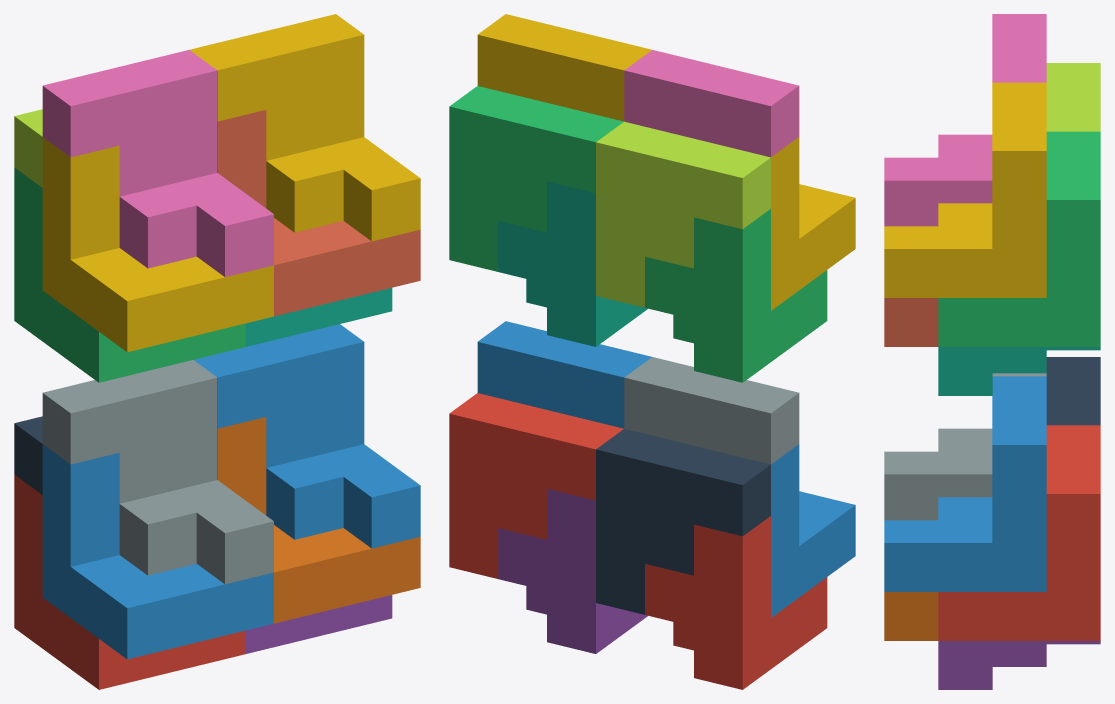
File: tiling.obj
3 views of the same model, side by side, from view 1: azimuth 30°, elevation 25°; view 2: azimuth 150°, elevation 25°; view 3: azimuth 270°, elevation 25° (orthographic). The views are drawn at different scales.
Visible parts, largest first — view 1: copy_2_domain_4, copy_2_domain_2, copy_2_domain_8, copy_2_domain_6, copy_1_domain_2, copy_1_domain_4, copy_1_domain_6, copy_1_domain_8, copy_1_domain_1, copy_1_domain_3, copy_1_domain_7, copy_1_domain_5 (+2 smaller); view 2: copy_2_domain_3, copy_2_domain_1, copy_2_domain_5, copy_2_domain_7, copy_1_domain_1, copy_1_domain_3, copy_2_domain_4, copy_2_domain_2, copy_1_domain_7, copy_1_domain_5, copy_2_domain_8, copy_2_domain_6 (+2 smaller); view 3: copy_2_domain_6, copy_2_domain_8, copy_2_domain_5, copy_2_domain_7, copy_2_domain_4, copy_2_domain_2, copy_1_domain_7, copy_1_domain_5, copy_2_domain_3, copy_2_domain_1, copy_1_domain_6, copy_1_domain_8.
Boxes of the visible parts, box(x1,y1,x2,y2) form: copy_2_domain_4: box(42, 50, 273, 277); copy_2_domain_2: box(42, 360, 273, 584); copy_2_domain_8: box(189, 14, 420, 241); copy_2_domain_6: box(193, 324, 420, 548); copy_1_domain_2: box(42, 444, 273, 659); copy_1_domain_4: box(42, 137, 273, 352); copy_1_domain_6: box(217, 417, 420, 623); copy_1_domain_8: box(217, 110, 420, 316); copy_1_domain_1: box(14, 474, 245, 689); copy_1_domain_3: box(14, 167, 245, 382); copy_1_domain_7: box(245, 288, 392, 346); copy_1_domain_5: box(245, 595, 392, 653); copy_2_domain_3: box(596, 121, 770, 307); copy_2_domain_1: box(596, 429, 770, 614); copy_2_domain_5: box(449, 393, 623, 578); copy_2_domain_7: box(449, 86, 623, 271); copy_1_domain_1: box(645, 516, 827, 689); copy_1_domain_3: box(645, 209, 827, 382); copy_2_domain_4: box(624, 50, 799, 157); copy_2_domain_2: box(624, 357, 799, 464); copy_1_domain_7: box(498, 181, 647, 346); copy_1_domain_5: box(498, 488, 647, 653); copy_2_domain_8: box(477, 14, 651, 121); copy_2_domain_6: box(477, 321, 651, 428); copy_2_domain_6: box(884, 376, 1046, 591); copy_2_domain_8: box(884, 82, 1046, 297); copy_2_domain_5: box(938, 425, 1100, 640); copy_2_domain_7: box(938, 131, 1100, 346); copy_2_domain_4: box(884, 14, 1046, 226); copy_2_domain_2: box(884, 373, 1046, 520); copy_1_domain_7: box(938, 347, 1100, 395); copy_1_domain_5: box(938, 641, 1100, 689); copy_2_domain_3: box(1046, 63, 1100, 131); copy_2_domain_1: box(1046, 357, 1100, 425); copy_1_domain_6: box(884, 592, 938, 640); copy_1_domain_8: box(884, 298, 938, 346).
Size of the model in its own units: 6 by 11 by 4.
